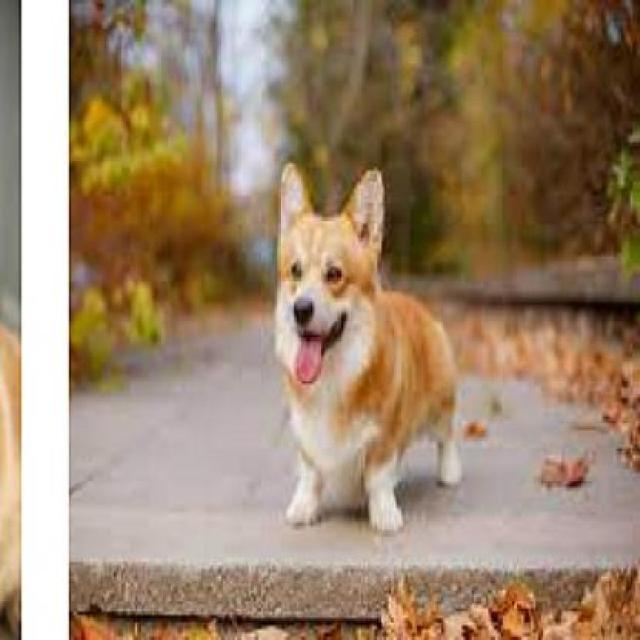Dog: (271, 152, 469, 532)
